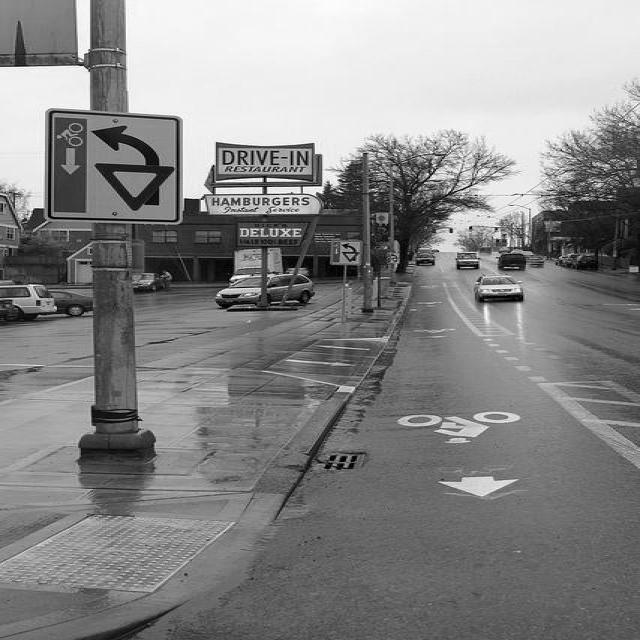vehicle: (214, 274, 316, 310), (0, 284, 57, 320), (472, 272, 524, 302), (50, 291, 92, 315), (495, 252, 526, 270), (132, 272, 163, 290), (571, 255, 599, 270), (454, 255, 482, 269), (415, 253, 435, 266), (526, 256, 546, 266), (478, 246, 492, 255), (499, 247, 511, 253)
